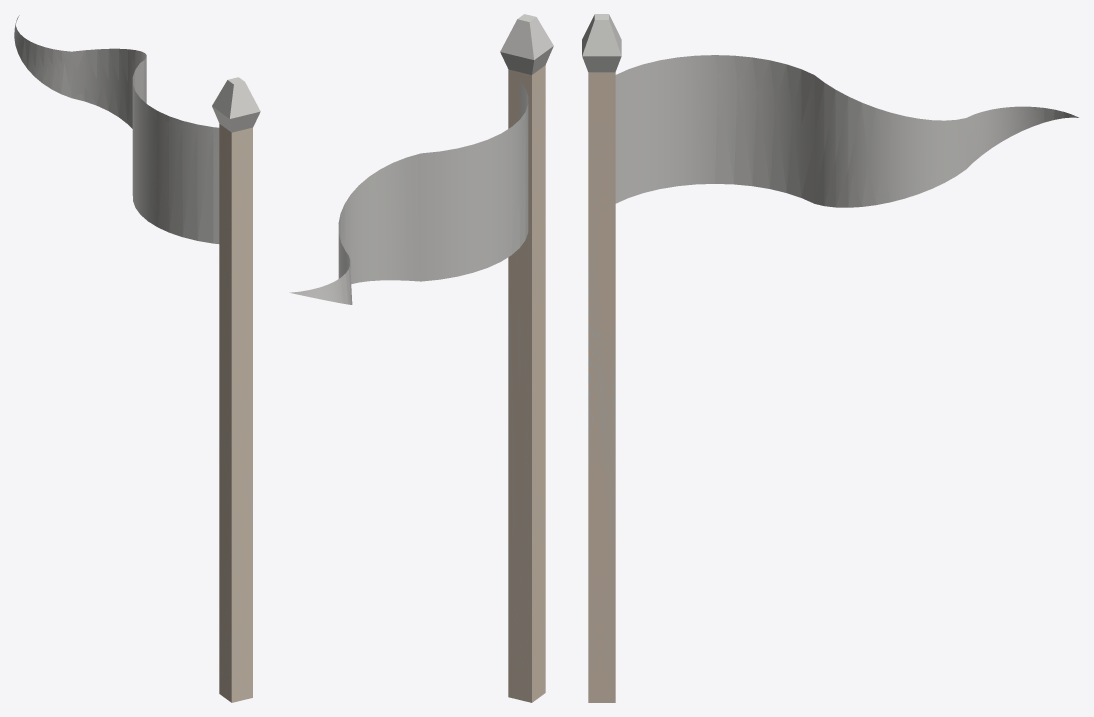
File: flagWhite.fbx
3 renders of one model, left to right at view 1: azimuth 30°, elevation 25°; view 2: azimuth 150°, elevation 25°; view 3: azimuth 270°, elevation 25°, orthographic. The views are drawn at different scales.
Parts seen in each view (by area): view 1: flagWhite, flagWhite_cell.003, flagWhite_cell, flagWhite_cell.001, flagWhite_cell.004, flagWhite_cell.002, flagWhite_cell.006; view 2: flagWhite, flagWhite_cell.003; view 3: flagWhite, flagWhite_cell.003, flagWhite_cell.004.
Part boxes in pixels (box(x1,y1,x2,y2)): flagWhite: box(14, 23, 260, 702); flagWhite_cell.003: box(143, 124, 219, 243); flagWhite_cell: box(66, 48, 133, 82); flagWhite_cell.001: box(80, 80, 132, 128); flagWhite_cell.004: box(132, 49, 208, 126); flagWhite_cell.002: box(18, 38, 66, 69); flagWhite_cell.006: box(28, 63, 82, 100); flagWhite: box(289, 14, 553, 702); flagWhite_cell.003: box(511, 122, 528, 254); flagWhite: box(582, 14, 1072, 702); flagWhite_cell.003: box(679, 72, 859, 207); flagWhite_cell.004: box(697, 55, 896, 168).
Bounding box in the file's own units: 89.91 × 792 × 525.
